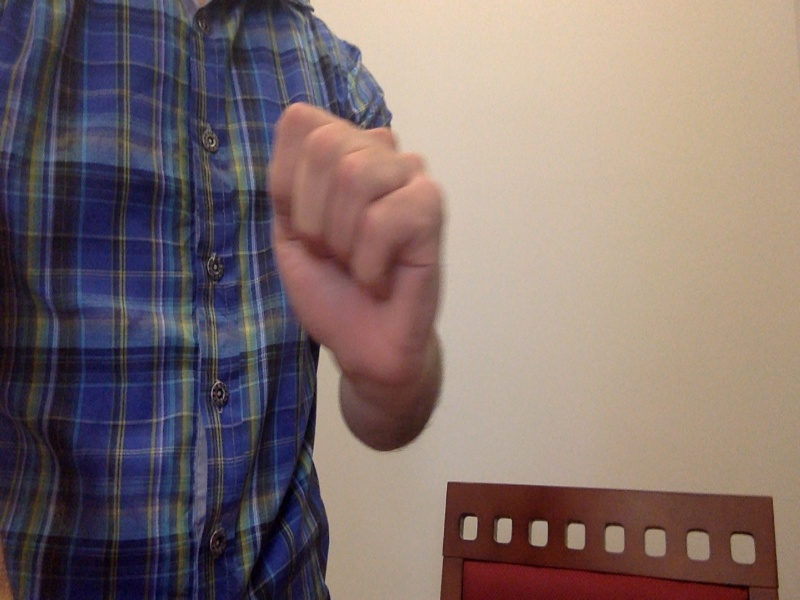0-hand: (262, 103, 438, 381)
